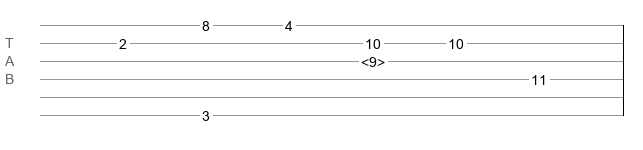10: (365, 36, 381, 46), (448, 36, 464, 46)
11: (531, 72, 547, 82)
2: (119, 36, 127, 46)
3: (202, 108, 210, 118)
4: (285, 18, 293, 28)
8: (202, 18, 210, 28)
harmonic: (361, 54, 385, 64)
